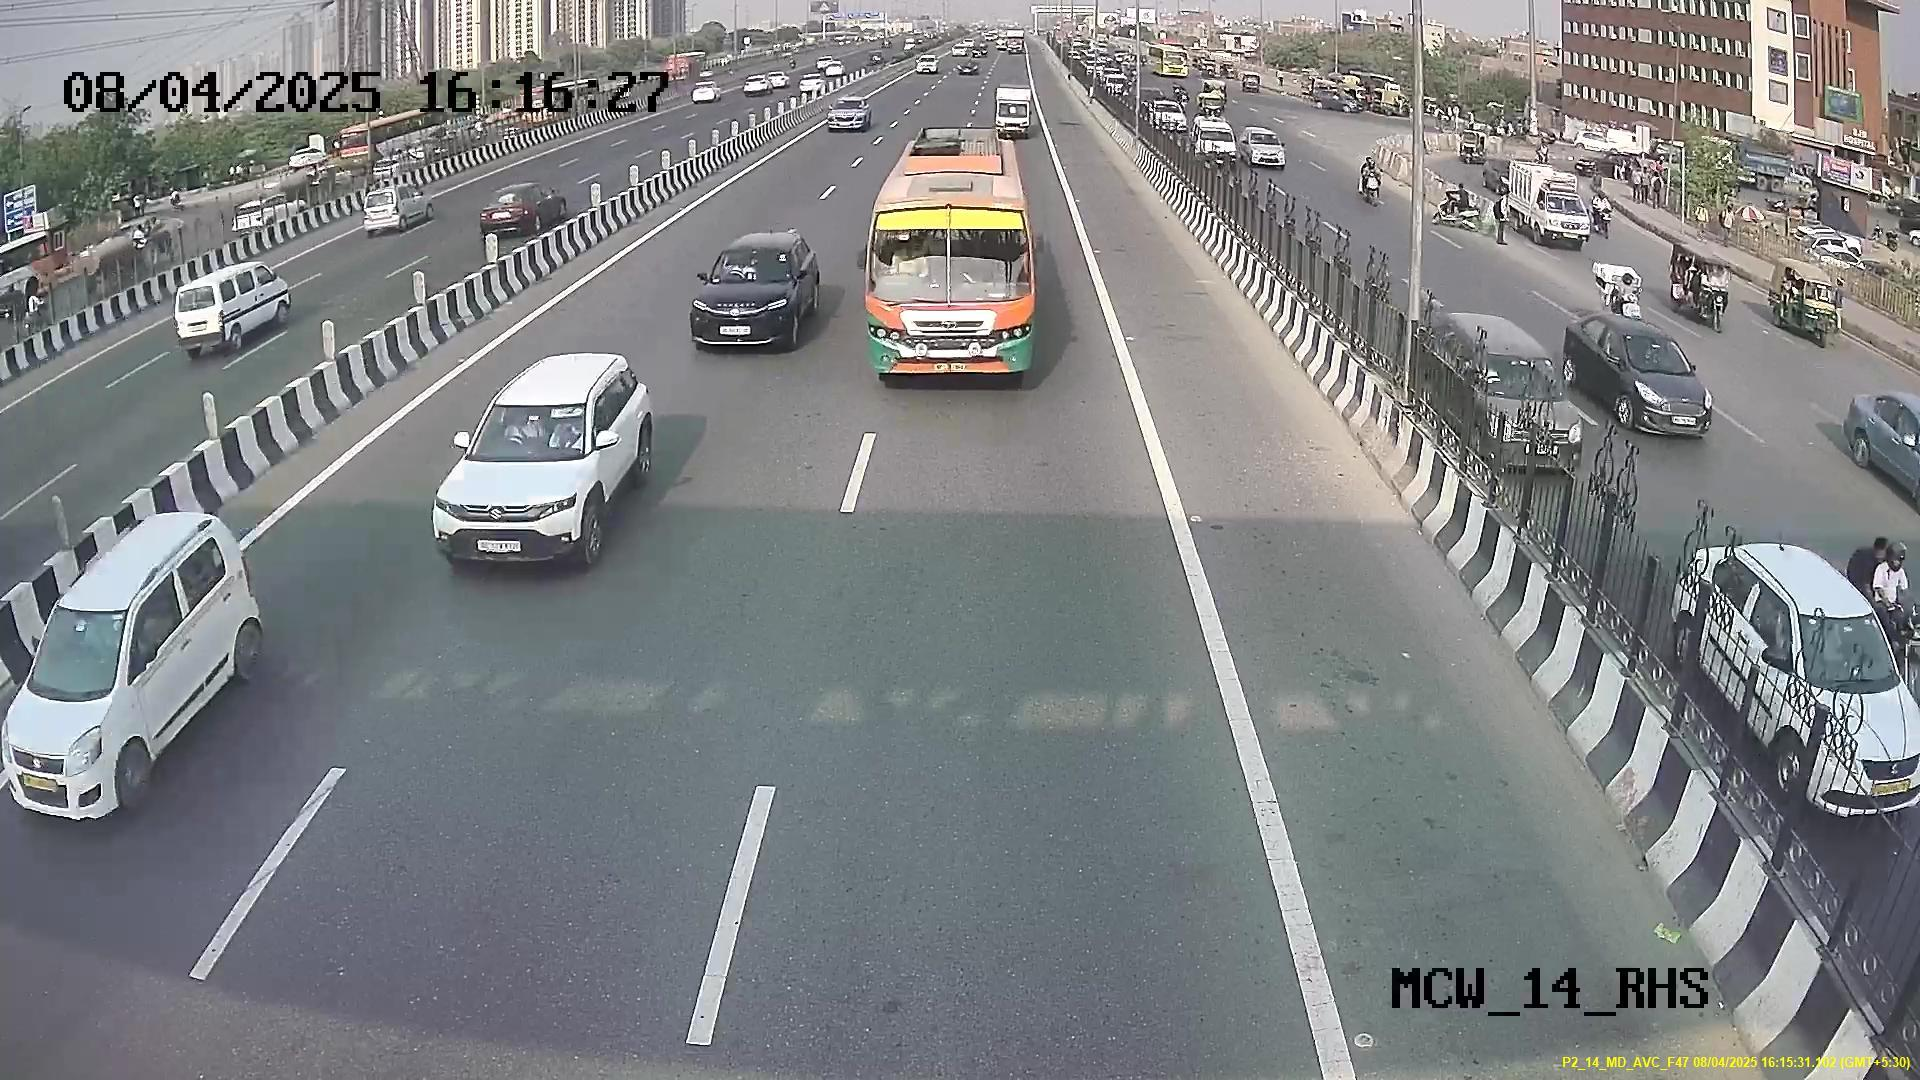bus: (856, 194, 1046, 390)
car: (0, 556, 194, 826), (431, 379, 616, 571), (687, 243, 810, 357)
